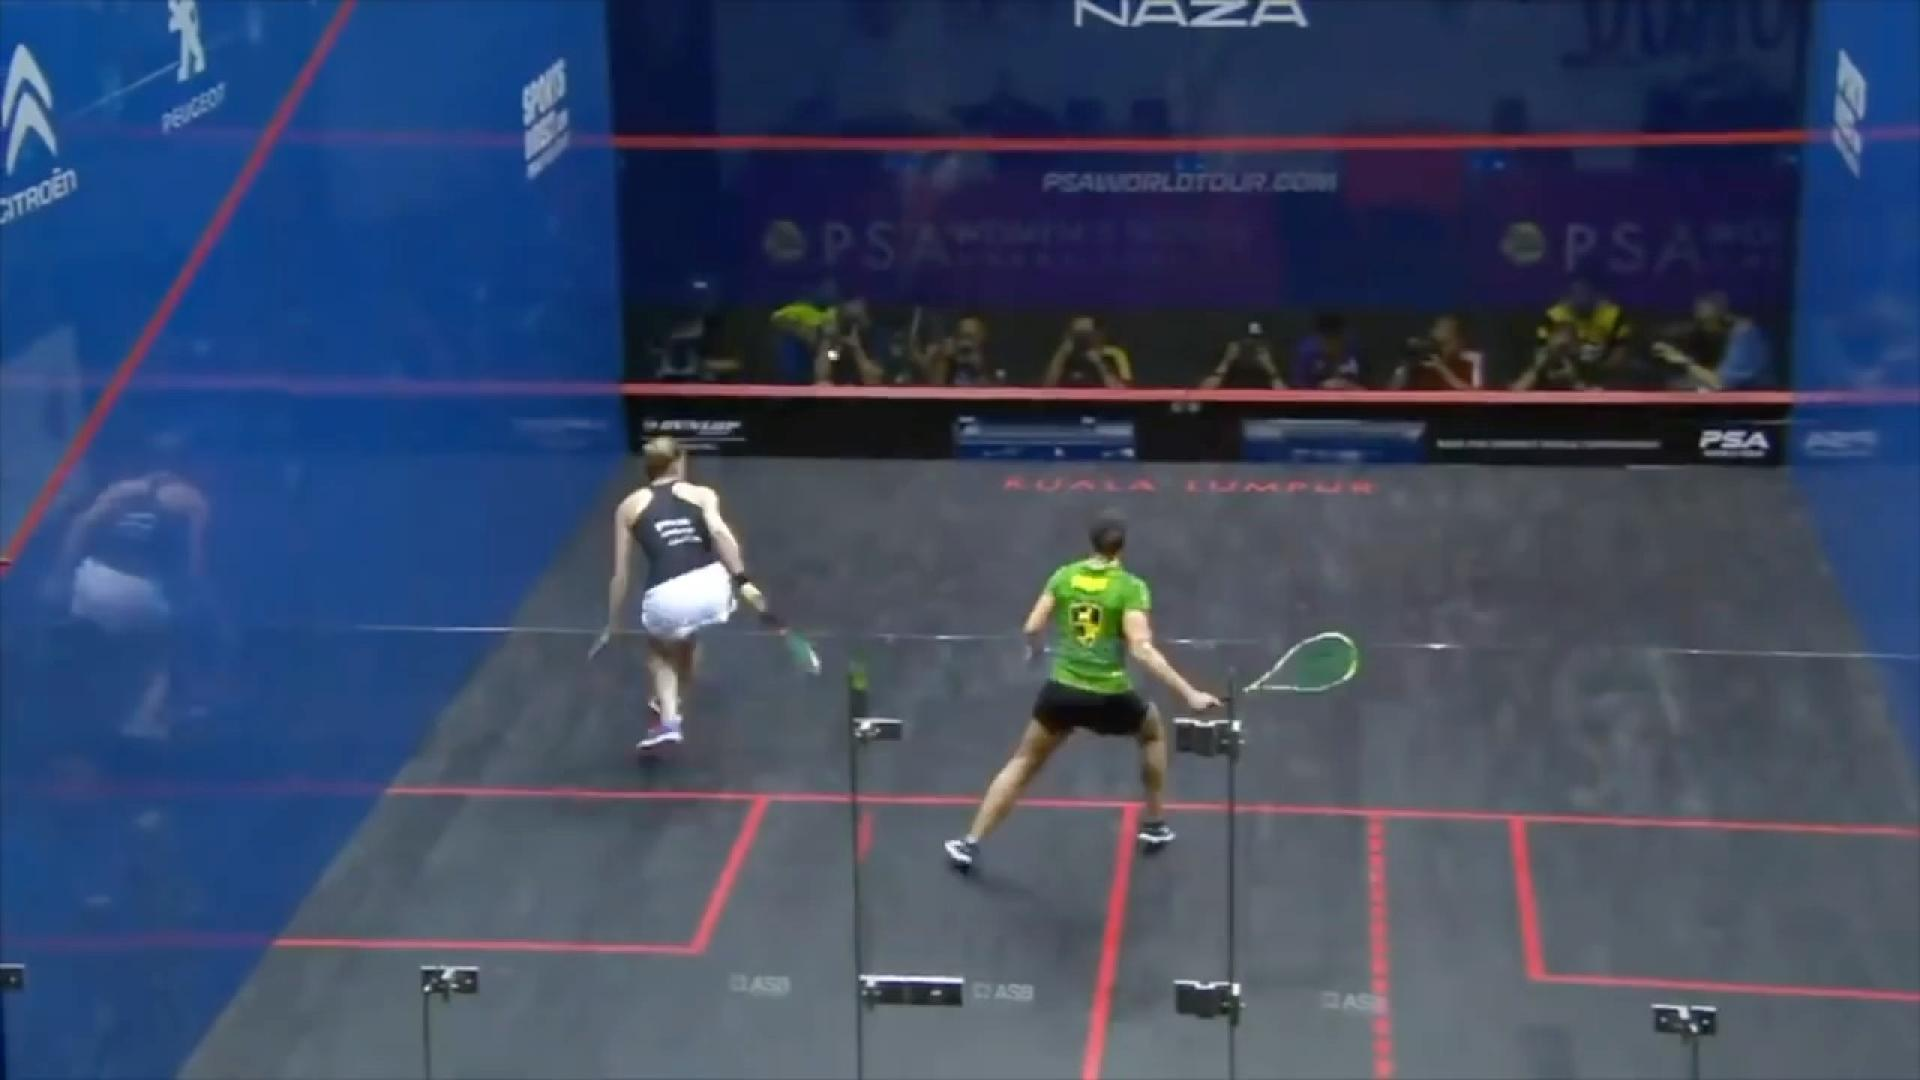Squash-Ball: (812, 335, 851, 375)
